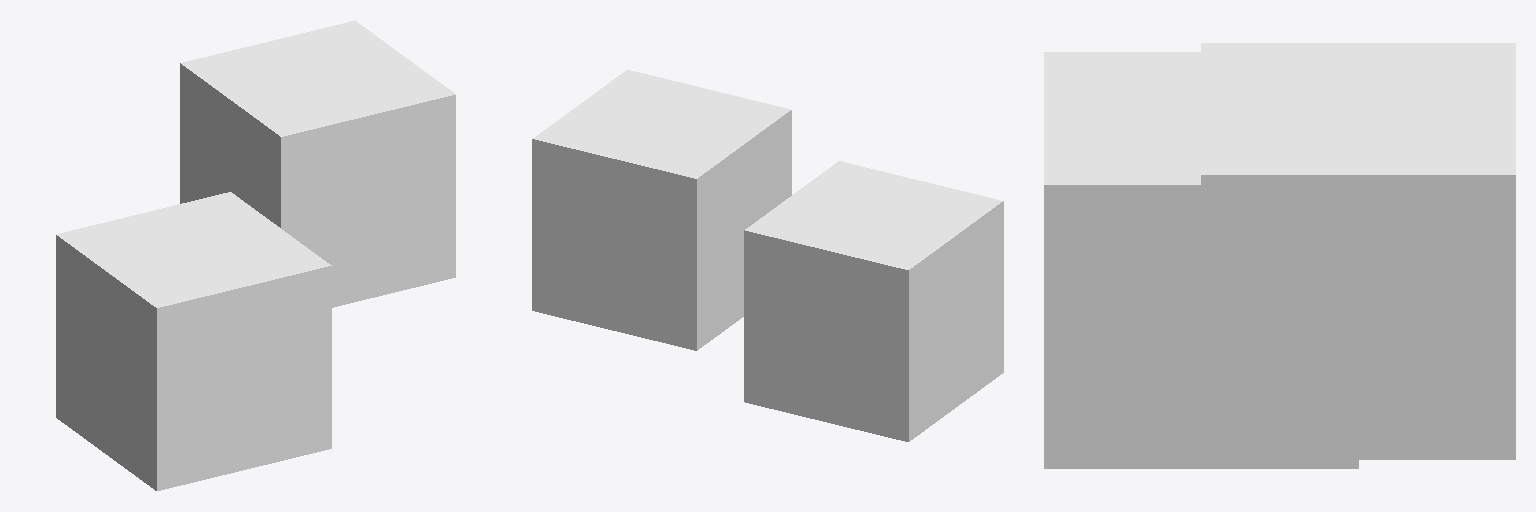
URDF robot description (box):
<?xml version="1.0" ?>
<robot name="box">
  <link name="base_link">
    <inertial>
      <origin rpy="0 0 0" xyz="0 0 0"/>
      <mass value="10"/>
      <inertia ixx="1.0" ixy="0.0" ixz="0.0" iyy="1.0" iyz="0.0" izz="1.0"/>
    </inertial>
    <visual>
      <origin rpy="0 0 0" xyz="0 0 0"/>
      <geometry>
        <mesh filename="box-T2F_N3F_V3F.obj" scale="1 1 1"/>
      </geometry>
      <material name="white">
        <color rgba="1 1 1 1"/>
      </material>
    </visual>
    <collision>
      <origin rpy="0 0 0" xyz="0 0 0"/>
      <geometry>
        <mesh filename="box-T2F_N3F_V3F.obj" scale="1 1 1"/>
      </geometry>
    </collision>
  </link>
  <link name="right_leg">
    <inertial>
      <origin rpy="0 0 0" xyz="1 1 1"/>
      <mass value="10"/>
      <inertia ixx="1.0" ixy="0.0" ixz="0.0" iyy="1.0" iyz="0.0" izz="1.0"/>
    </inertial>
    <visual>
      <origin rpy="0 0 0" xyz="1 1 1"/>
      <geometry>
        <mesh filename="box-T2F_N3F_V3F.obj" scale="1 1 1"/>
      </geometry>
      <material name="white">
        <color rgba="1 1 1 1"/>
      </material>
    </visual>
    <collision>
      <origin rpy="0 0 0" xyz="1 1 1"/>
      <geometry>
        <mesh filename="box-T2F_N3F_V3F.obj" scale="1 1 1"/>
      </geometry>
    </collision>
  </link>
  <joint name="base_to_right_leg" type="fixed">
    <parent link="base_link"/>
    <child link="right_leg"/>
    <origin xyz="1 0 0"/>
  </joint>
</robot>

--- What the picture shows (computed from the rendered views, not written in the file) ---
Views: 3 orthographic renders of the robot side by side, from view 1: azimuth 30°, elevation 25°; view 2: azimuth 150°, elevation 25°; view 3: azimuth 270°, elevation 25°.
Model box with 2 links and 1 joints (1 fixed), rooted at base_link, posed every joint at zero.
Links seen in each view (by area): view 1: base_link, right_leg; view 2: base_link, right_leg; view 3: right_leg, base_link.
Boxes of the visible links, x1,y1,x2,y2 form: base_link: (56, 192, 331, 490); right_leg: (180, 21, 455, 307); base_link: (744, 161, 1003, 441); right_leg: (532, 70, 791, 350); right_leg: (1201, 43, 1515, 459); base_link: (1044, 52, 1358, 468).
Size in the robot's own frame: 4 by 3 by 3 metres.
2 mesh visuals loaded from 1 distinct referenced files (1 OBJ).